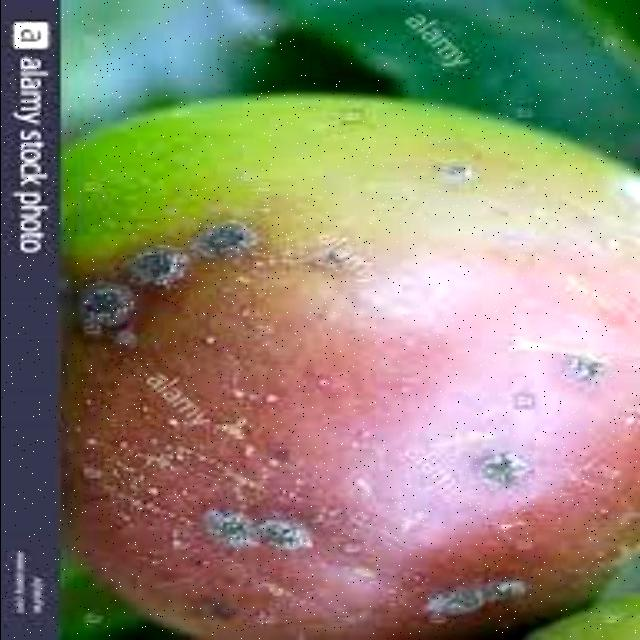SCAB: (66, 46, 640, 640)
